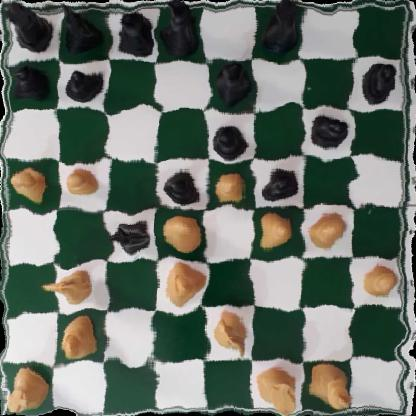black-bishop: (114, 4, 156, 58), (215, 59, 248, 103)
black-king: (162, 0, 202, 57)
black-knight: (59, 0, 101, 53), (100, 217, 152, 254)
black-pawn: (6, 59, 51, 106), (65, 63, 106, 105), (361, 60, 398, 105), (259, 161, 298, 203), (166, 167, 200, 208), (307, 113, 343, 147), (210, 124, 247, 157)
black-rook: (4, 2, 53, 50), (259, 0, 303, 51)
white-bishop: (59, 314, 98, 361), (161, 259, 201, 303)
white-king: (307, 357, 352, 409)
white-knight: (47, 263, 99, 303), (212, 311, 251, 360)
white-pawn: (257, 212, 297, 254), (310, 209, 347, 252), (212, 167, 250, 208), (11, 164, 52, 201), (163, 214, 201, 252), (361, 264, 398, 298), (62, 165, 97, 198)
white-rook: (0, 368, 52, 414), (254, 365, 299, 412)
